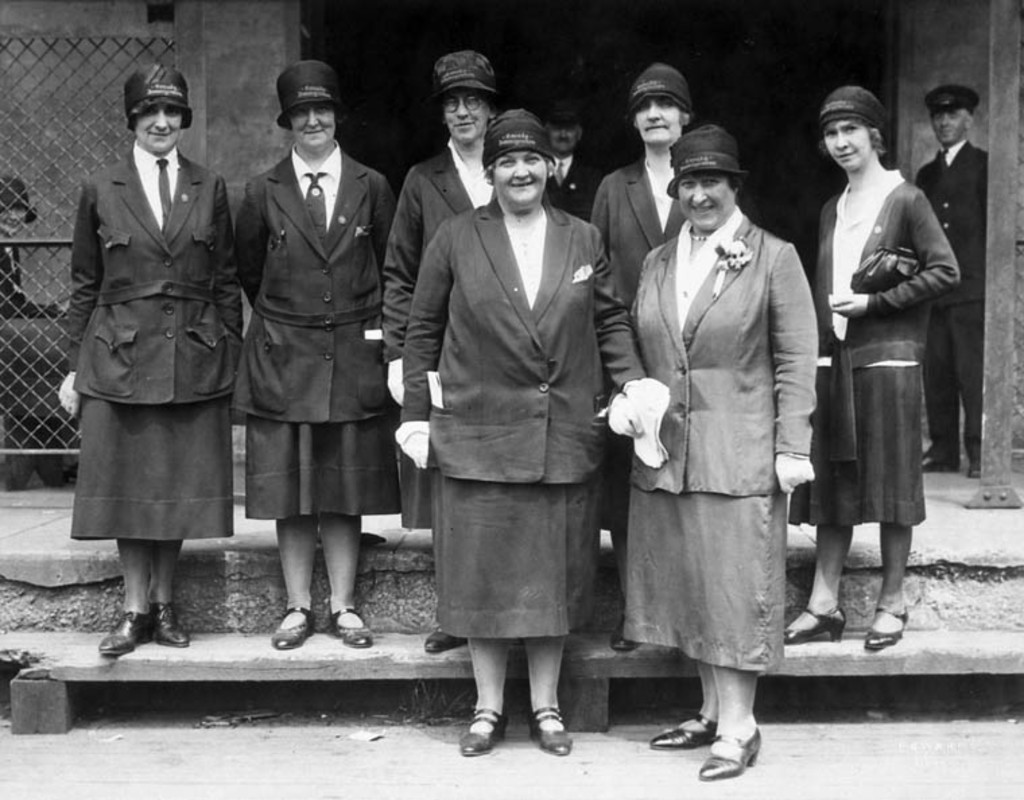Footwear: (667, 696, 763, 773), (645, 708, 722, 752), (457, 702, 508, 758), (528, 704, 575, 758), (862, 599, 907, 652), (787, 602, 846, 640), (268, 605, 315, 651), (100, 610, 150, 652), (152, 595, 190, 642), (326, 606, 372, 644), (426, 622, 462, 656), (606, 614, 639, 651), (919, 444, 958, 469)
